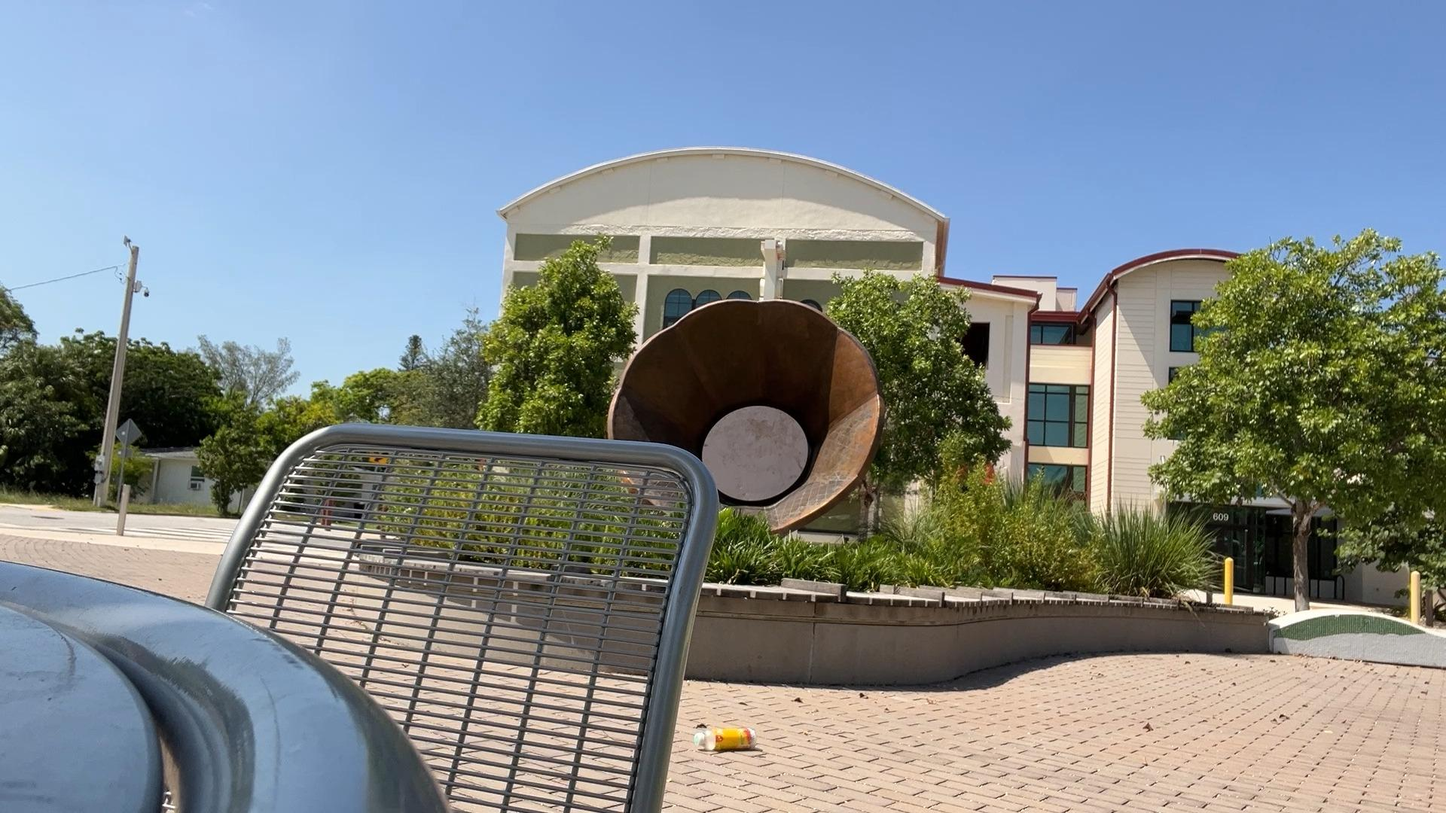Trash: (682, 712, 768, 771)
